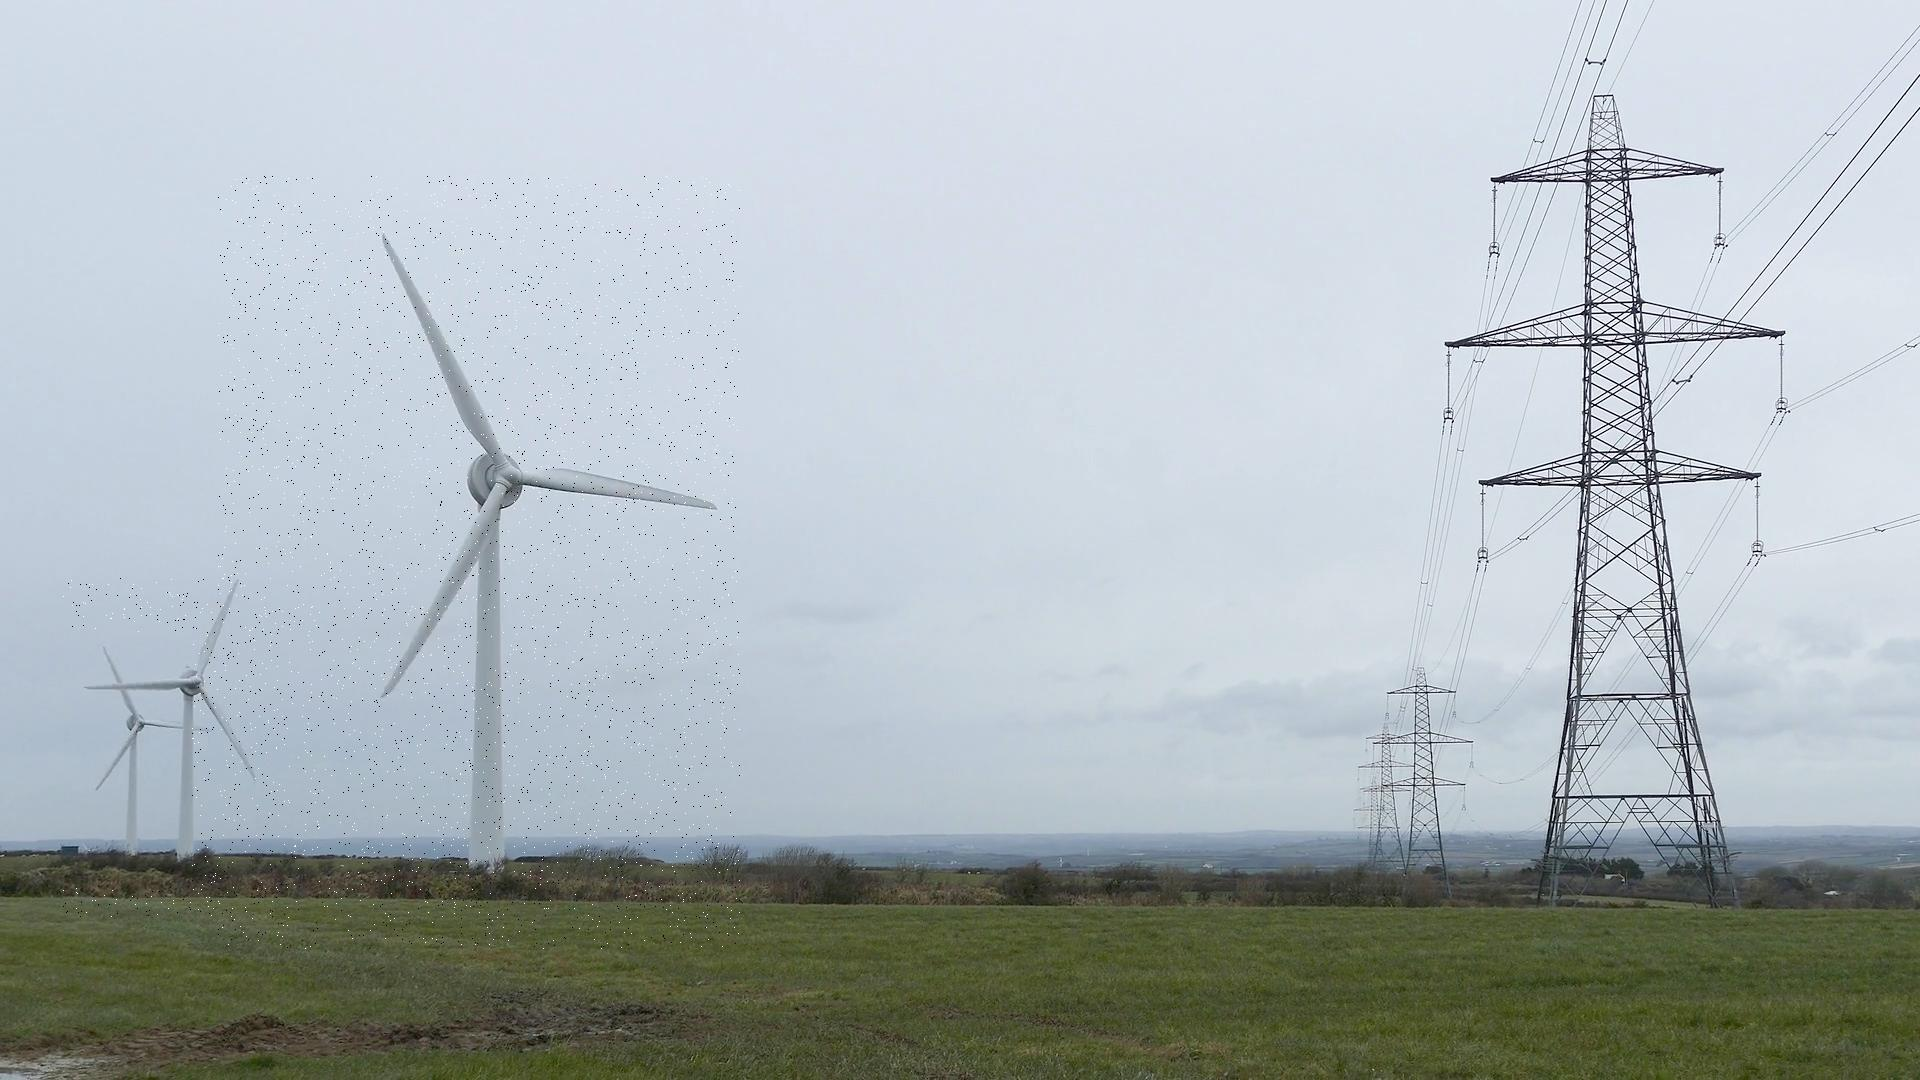cable tower: (1437, 90, 1785, 910), (1374, 666, 1474, 905), (1358, 727, 1415, 876), (1353, 777, 1391, 862)
turbine: (218, 175, 740, 949), (63, 579, 293, 918), (37, 633, 193, 887)
